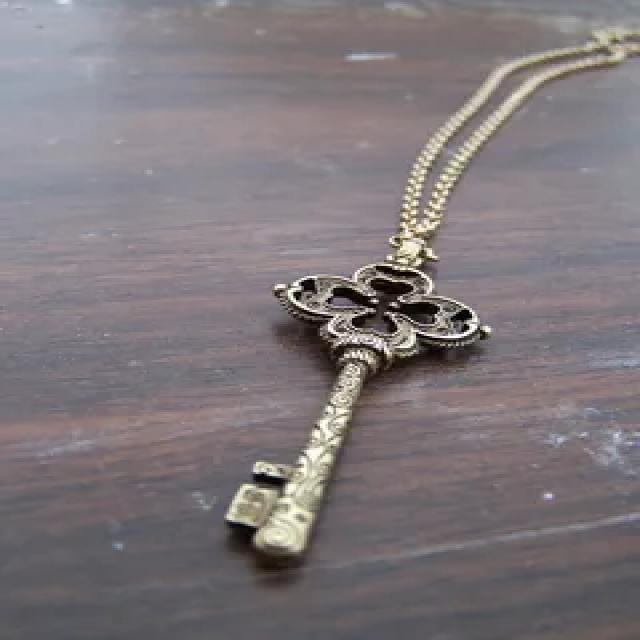key: (206, 258, 492, 582)
